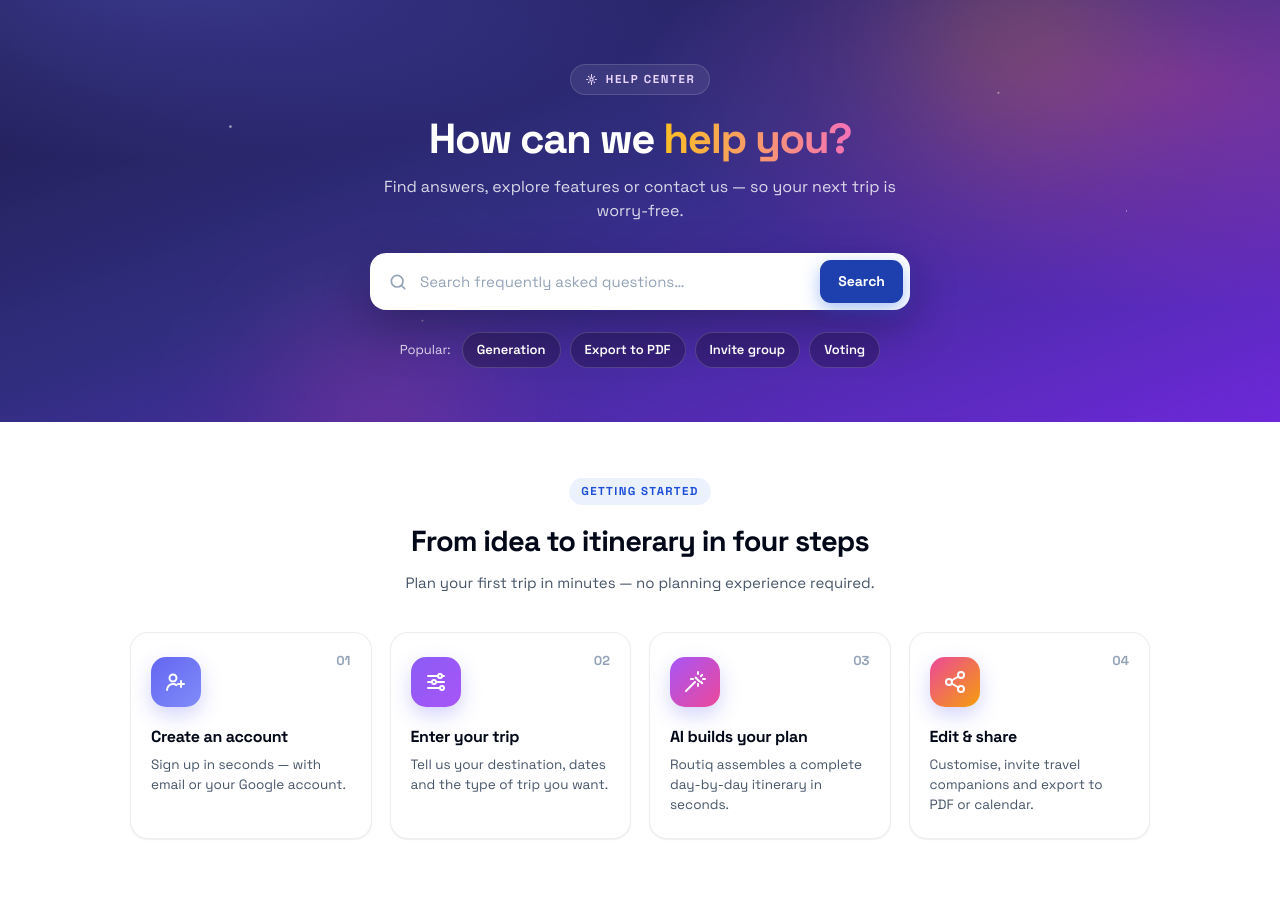
Scenario: HelpPage › shows empty results message when no matches found
In the field with placeholder "Search frequently asked questions…": point(614, 282) [420,261,808,303], type "completely-random-nonexistent-search-term"
(page scrolled)
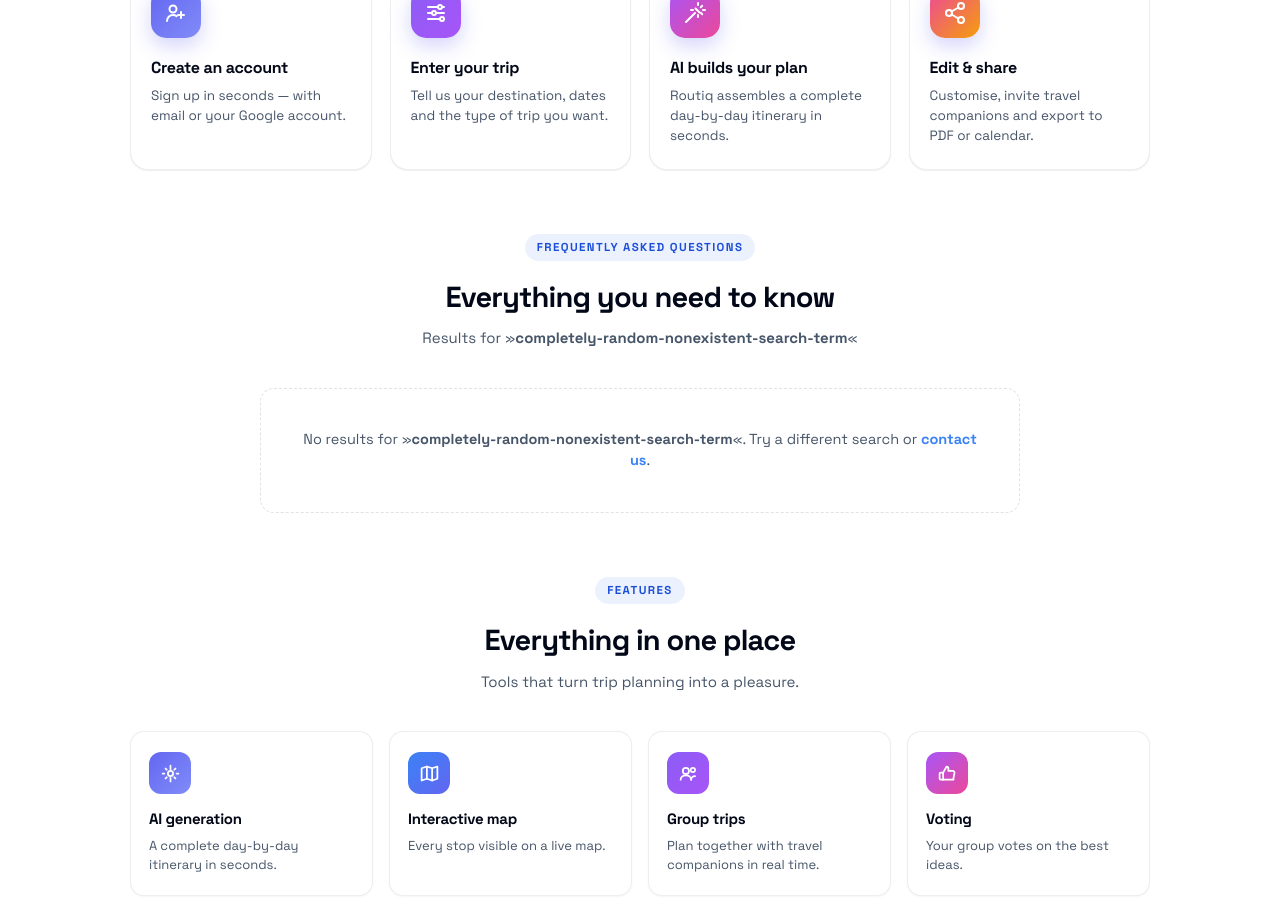
Expected: the text "No results for" is shown, [303,430,412,448]
